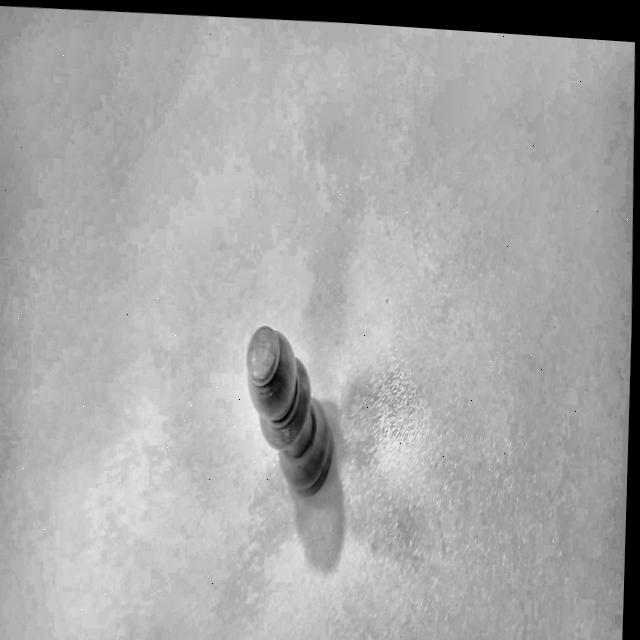white-bishop: (225, 296, 360, 545)
